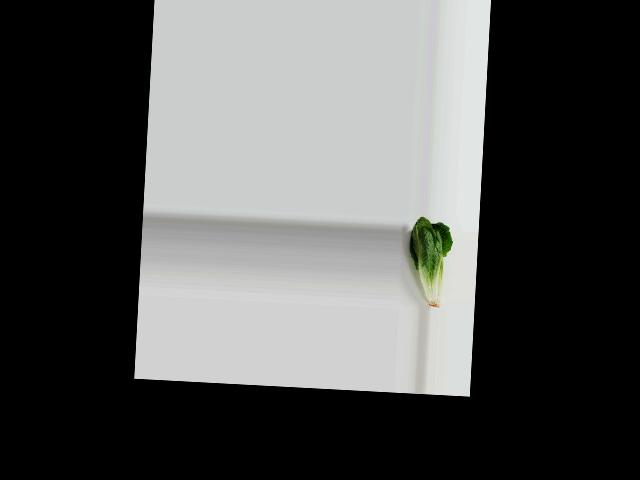lettuce: (403, 215, 454, 312)
